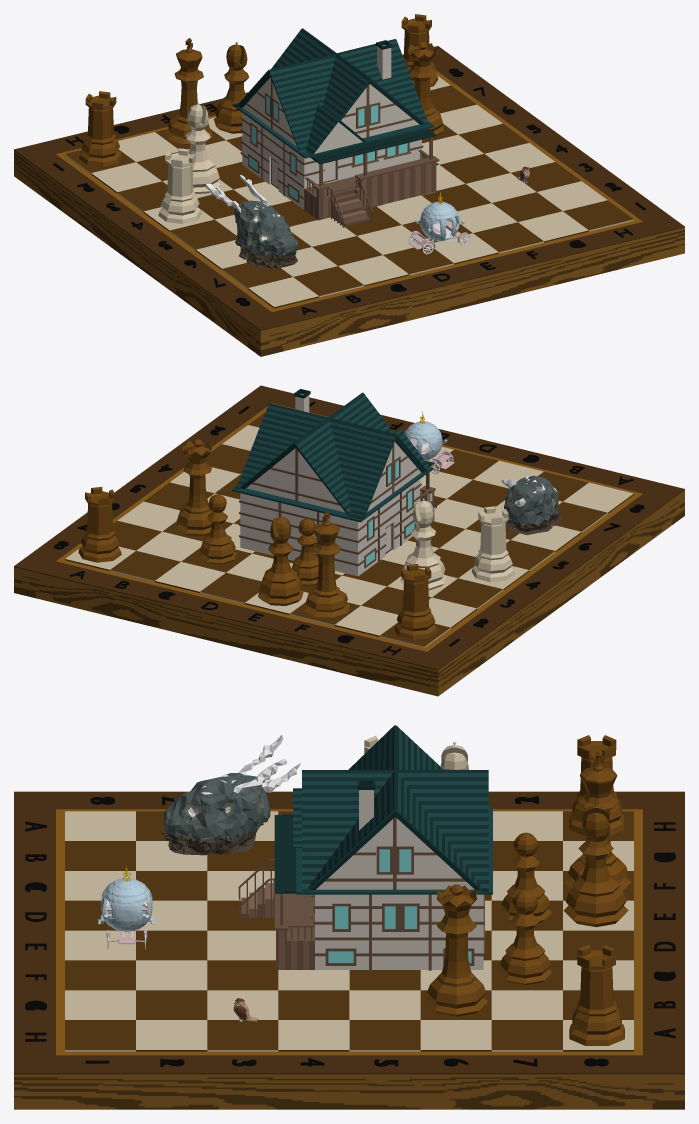
3 renders of one model, top to bottom at view 1: azimuth 30°, elevation 25°; view 2: azimuth 150°, elevation 25°; view 3: azimuth 270°, elevation 25°, orthographic. The views are drawn at different scales.
Parts seen in each view (by area): view 1: Cube.002, Cube.793, OBJRANDOM_METEORITE, VEHICLES_FANTASY_CARRIAGE; view 2: Cube.002, Cube.793, OBJRANDOM_METEORITE, VEHICLES_FANTASY_CARRIAGE; view 3: Cube.002, Cube.793, OBJRANDOM_METEORITE, VEHICLES_FANTASY_CARRIAGE.
Boxes of the visible parts, left/top/right/bottom form: Cube.002: left=14, top=14, right=684, bottom=356; Cube.793: left=232, top=28, right=439, bottom=227; OBJRANDOM_METEORITE: left=205, top=175, right=298, bottom=268; VEHICLES_FANTASY_CARRIAGE: left=408, top=192, right=470, bottom=254; Cube.002: left=14, top=385, right=684, bottom=696; Cube.793: left=232, top=389, right=436, bottom=576; OBJRANDOM_METEORITE: left=501, top=475, right=561, bottom=534; VEHICLES_FANTASY_CARRIAGE: left=404, top=411, right=454, bottom=473; Cube.002: left=14, top=735, right=684, bottom=1109; Cube.793: left=238, top=725, right=492, bottom=970; OBJRANDOM_METEORITE: left=162, top=735, right=300, bottom=855; VEHICLES_FANTASY_CARRIAGE: left=98, top=865, right=155, bottom=949.
Size of the model in its own units: 3981 by 1462 by 4012.
Materials: 30 (3 with a texture image).
